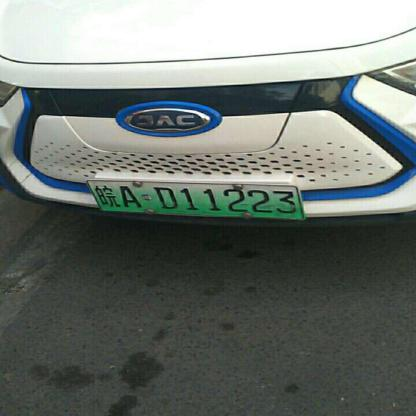lp: (85, 181, 304, 218)
